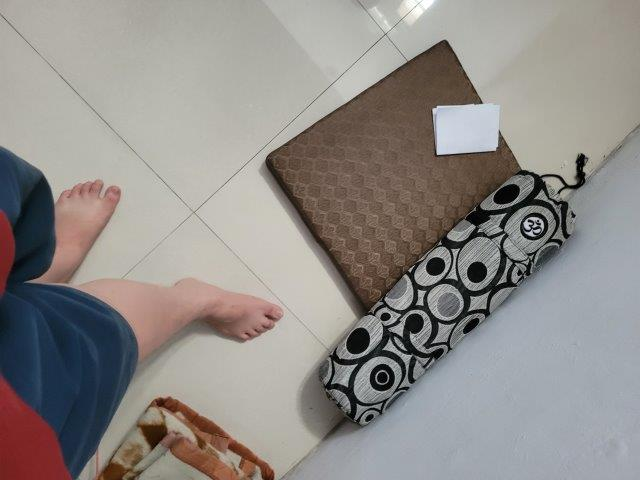kertas: (431, 105, 501, 155)
